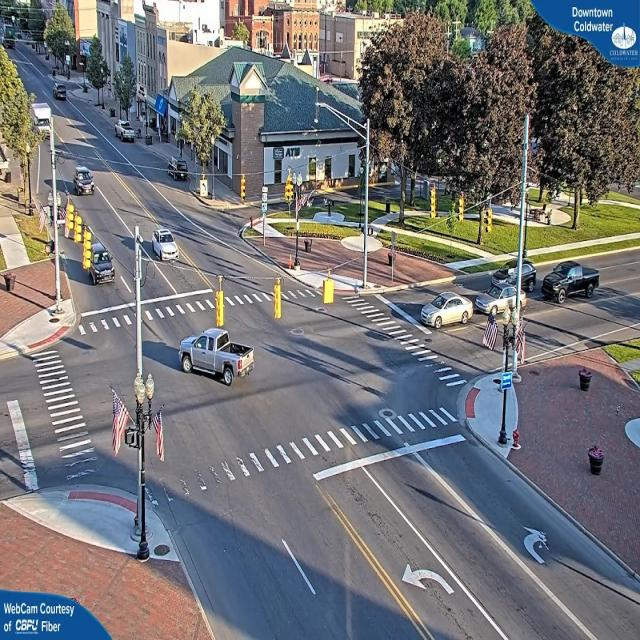car: (176, 324, 250, 382), (419, 288, 474, 329), (544, 262, 601, 300), (475, 287, 525, 315), (492, 260, 537, 289), (88, 244, 115, 283), (150, 228, 180, 263), (74, 166, 97, 195), (116, 124, 136, 143)
